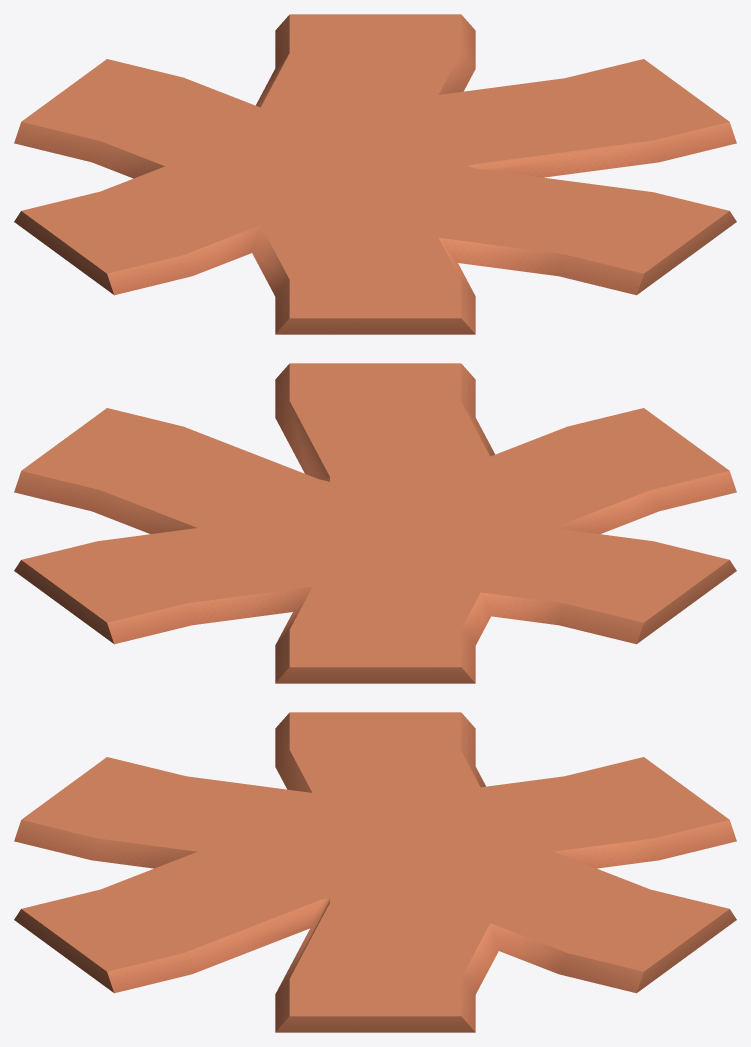
The model's file is path-crossing.fbx.
The picture shows the model from 3 angles, top to bottom: view 1: azimuth 30°, elevation 25°; view 2: azimuth 150°, elevation 25°; view 3: azimuth 270°, elevation 25°; orthographic projection.
Parts seen in each view (by area): view 1: path_crossing; view 2: path_crossing; view 3: path_crossing.
Boxes of the visible parts, bbox=[...] form: path_crossing: bbox=[14, 14, 736, 334]; path_crossing: bbox=[14, 363, 736, 683]; path_crossing: bbox=[14, 712, 736, 1032].
Bounding box in the file's own units: 100 × 2.5 × 101.
1 material, 1 textured.
